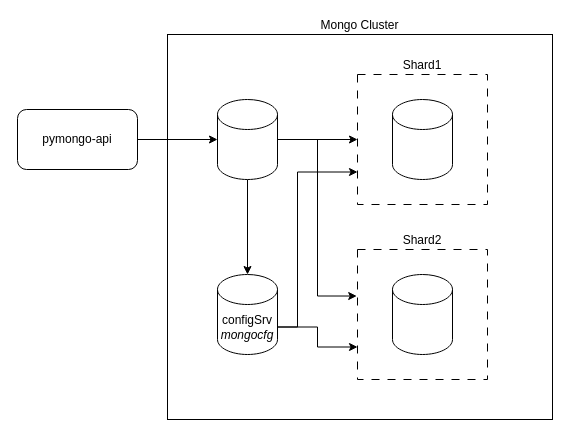
This 570x437 diagram has some shape labels left out. The shapes that lost their labels are listed below. From the top down, each one's box as (x1, y1, x2, y2) in pixels, then its label:
(216, 98, 278, 180): router mongos
(392, 98, 452, 180): shard1_1 mongod
(392, 274, 452, 354): shard2_1 mongod
